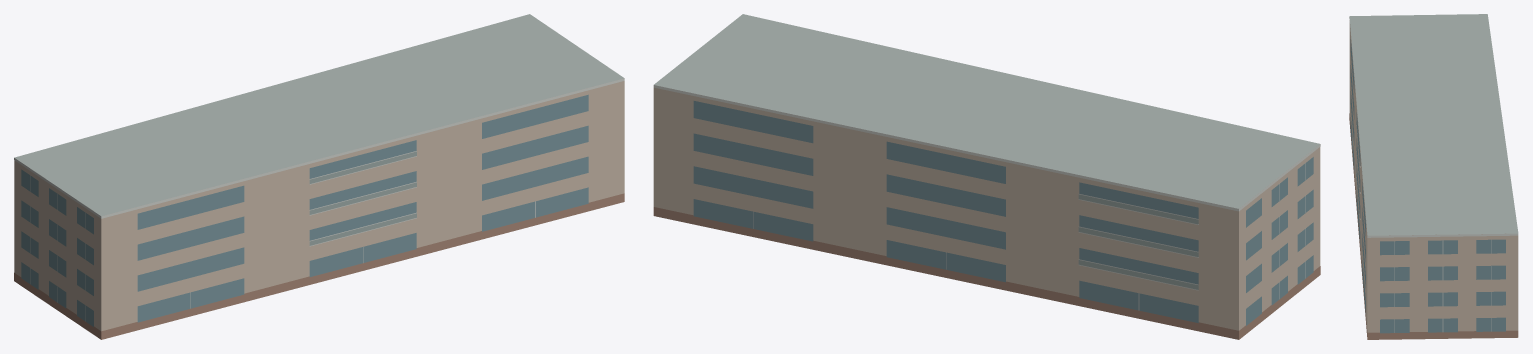
Rendered from residential-a00a28de-97fb-4fce-b231-3973248776c9.glb.
The picture shows the model from 3 angles, left to right: view 1: azimuth 30°, elevation 25°; view 2: azimuth 150°, elevation 25°; view 3: azimuth 270°, elevation 25°; orthographic projection. The views are drawn at different scales.
Visible parts, largest first — view 1: residential-a00a28de-97fb-4fce-b231-3973248776c9.tmp; view 2: residential-a00a28de-97fb-4fce-b231-3973248776c9.tmp; view 3: residential-a00a28de-97fb-4fce-b231-3973248776c9.tmp.
Part boxes in pixels (x1=…): residential-a00a28de-97fb-4fce-b231-3973248776c9.tmp: x1=14, y1=14, x2=624, y2=339; residential-a00a28de-97fb-4fce-b231-3973248776c9.tmp: x1=653, y1=14, x2=1320, y2=339; residential-a00a28de-97fb-4fce-b231-3973248776c9.tmp: x1=1349, y1=14, x2=1518, y2=339.
Bounding box in the file's own units: 55.72 × 12.2 × 17.95.
